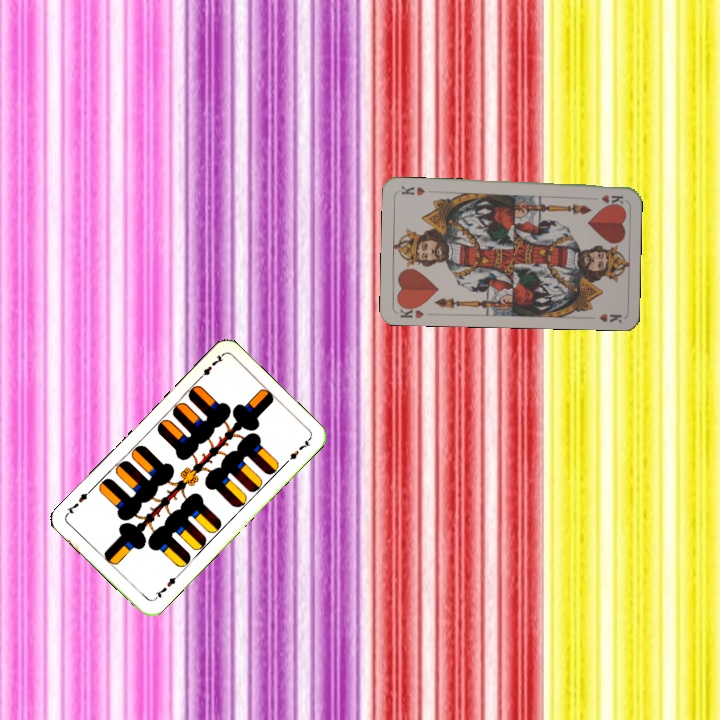E7: (149, 570, 181, 603), (194, 350, 226, 383)
HK: (394, 301, 426, 321), (598, 191, 626, 205)
